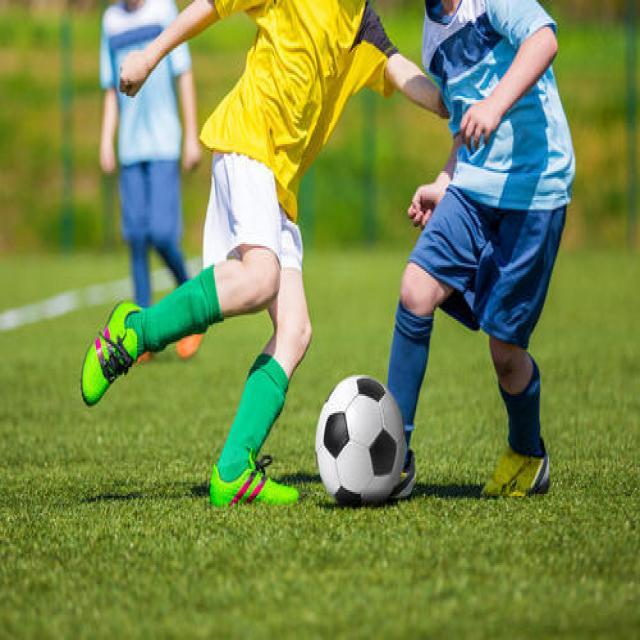rim: (316, 373, 406, 511)
